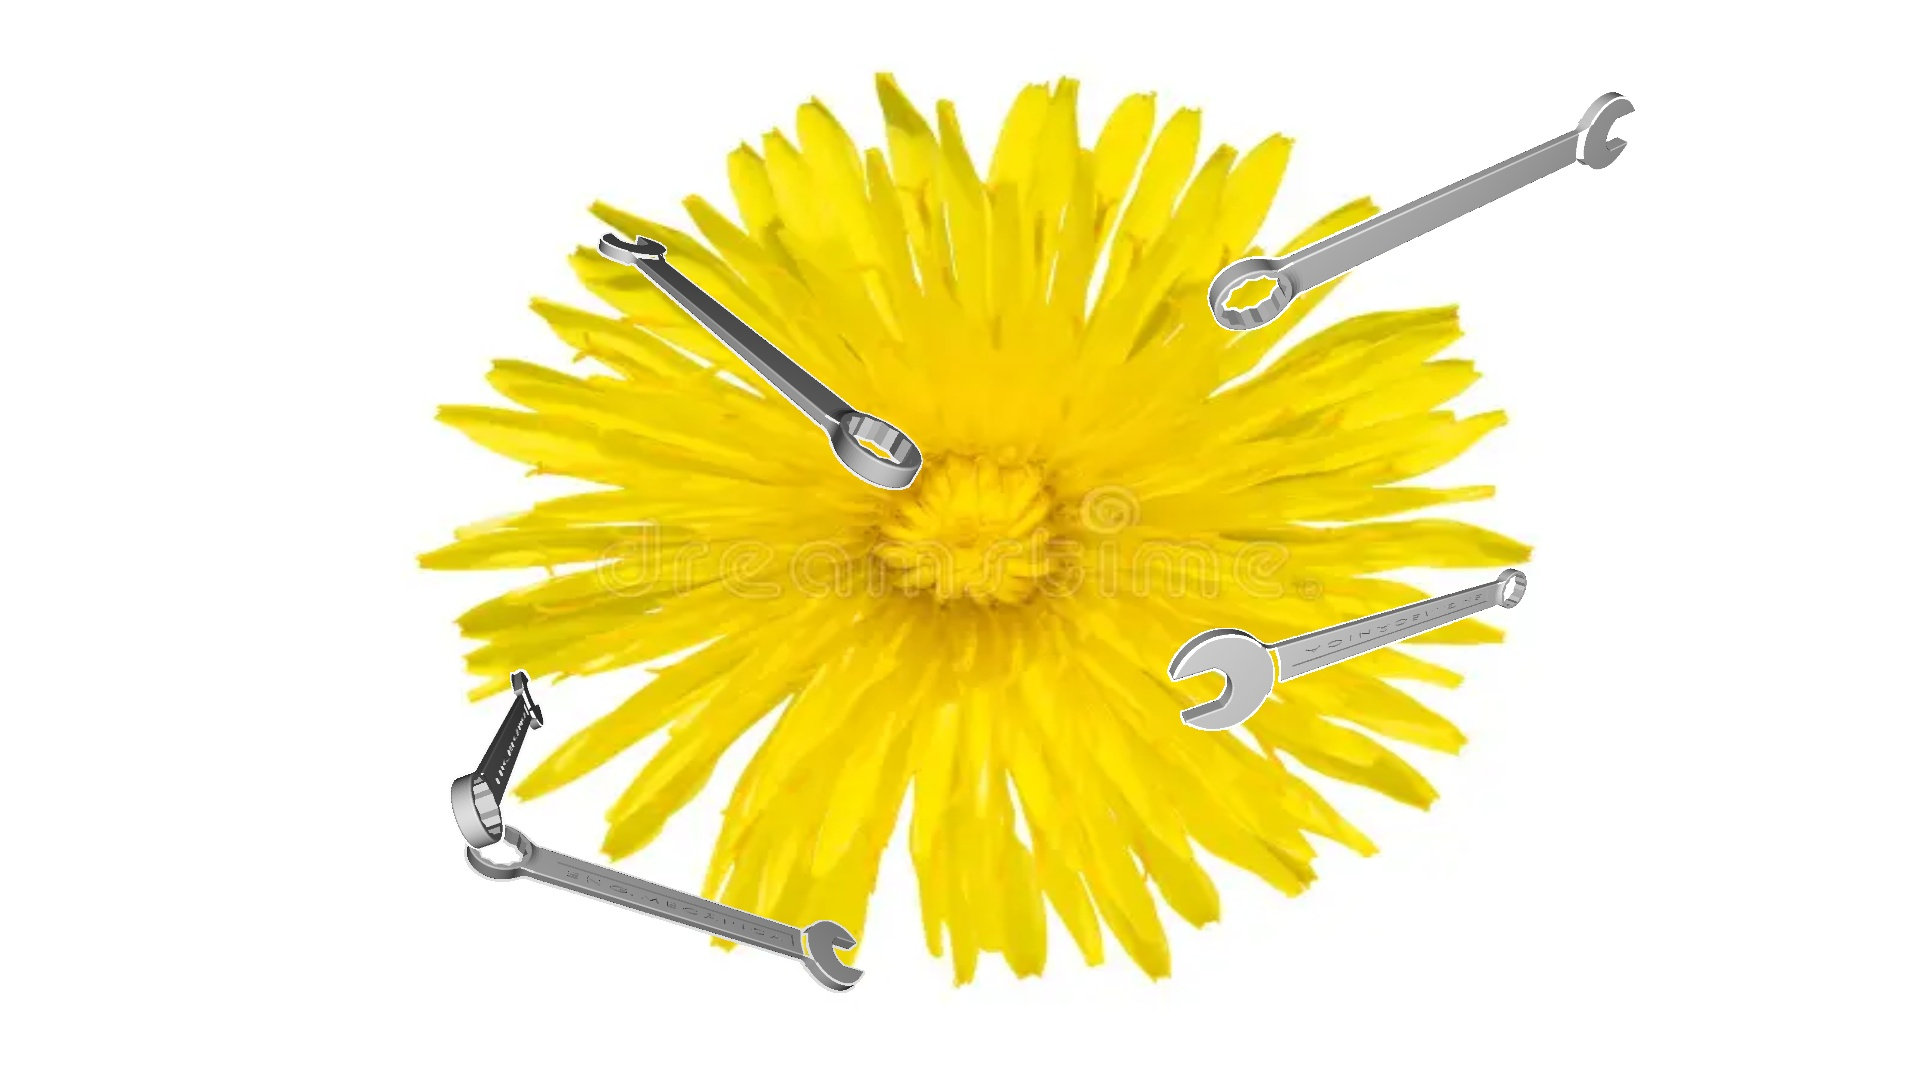Mixed Key: (1207, 90, 1636, 330), (597, 232, 922, 489), (464, 824, 864, 992), (1167, 567, 1527, 731), (448, 669, 545, 849)
